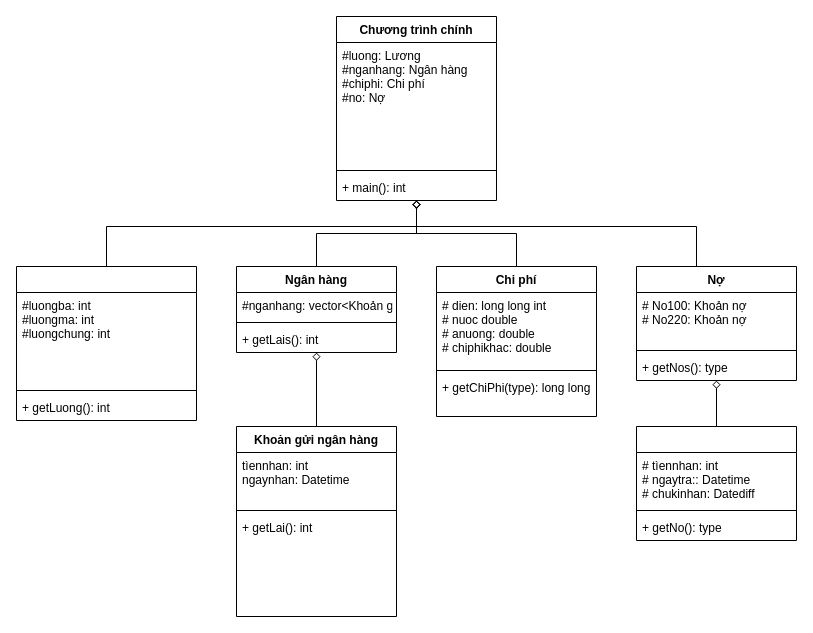
Image size: 813x633. Some labels were removed from this diagram. The box of each missing label's shape, as (x1, y1, x2, y2) in pixels:
Khoản nợ: (636, 426, 796, 540)
Lương: (16, 266, 196, 420)
